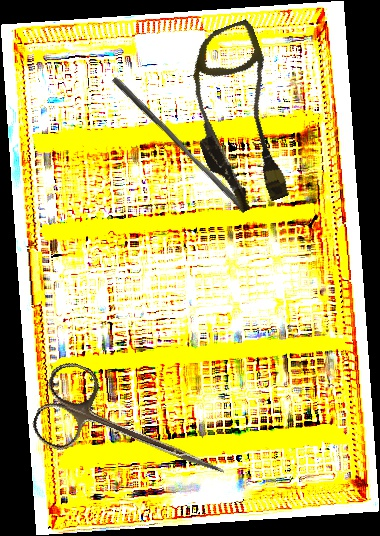Cannula: (164, 18, 312, 218)
Iris Scissors: (26, 356, 242, 509)
Pusher: (106, 76, 253, 214)
